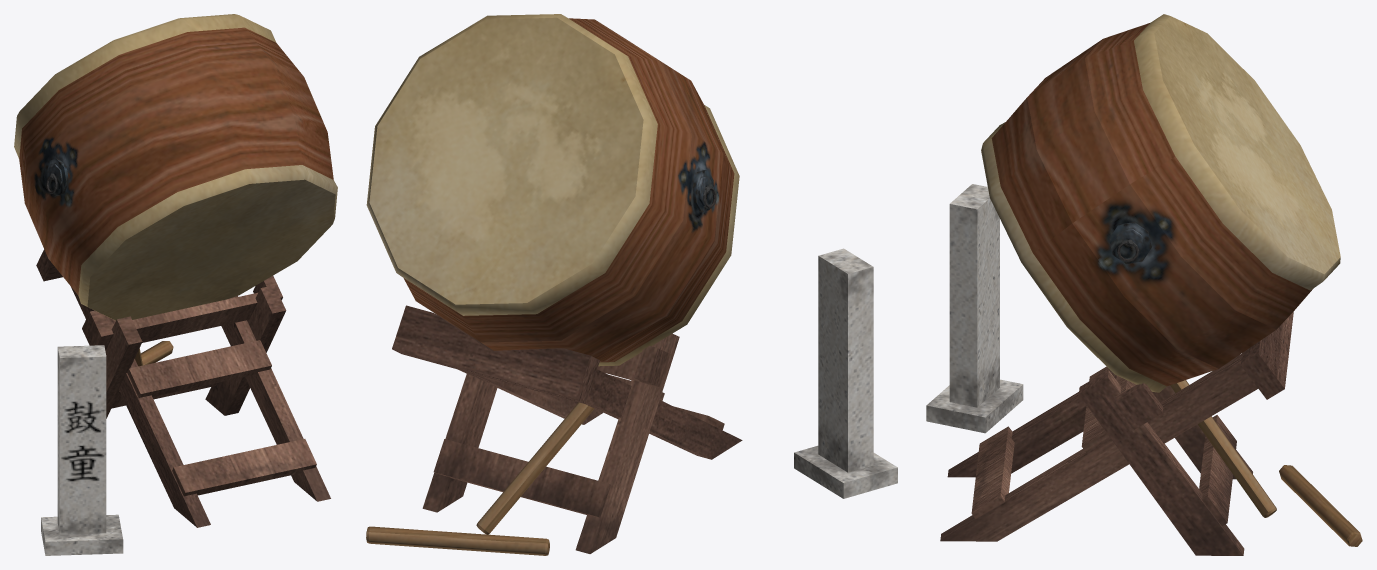
File: NNJ0410005.fbx
The picture shows the model from 3 angles, left to right: view 1: azimuth 30°, elevation 25°; view 2: azimuth 150°, elevation 25°; view 3: azimuth 270°, elevation 25°; orthographic projection. The views are drawn at different scales.
Parts seen in each view (by area): view 1: smNNJ0410005; view 2: smNNJ0410005; view 3: smNNJ0410005.
Part boxes in pixels (x1,y1,x2,y2): smNNJ0410005: [14, 14, 337, 555]; smNNJ0410005: [366, 14, 897, 555]; smNNJ0410005: [926, 14, 1362, 555].
Bounding box in the file's own units: 141 × 164 × 135.
1 material, 1 textured.
